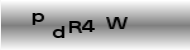4: (81, 19, 96, 33)
R: (68, 20, 81, 34)
W: (105, 16, 129, 29)
d: (51, 25, 65, 39)
p: (31, 12, 44, 26)
